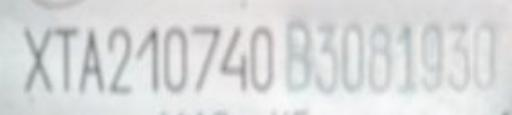letter: (189, 25, 221, 92), (21, 25, 53, 92), (340, 19, 368, 94), (470, 19, 498, 92), (285, 21, 313, 94), (218, 25, 248, 92), (160, 23, 188, 94), (444, 19, 470, 92), (106, 27, 134, 94), (132, 27, 160, 94), (418, 21, 444, 92), (394, 23, 420, 94), (314, 21, 338, 96), (248, 25, 274, 94), (77, 29, 105, 92), (368, 21, 392, 94), (52, 27, 78, 94)
